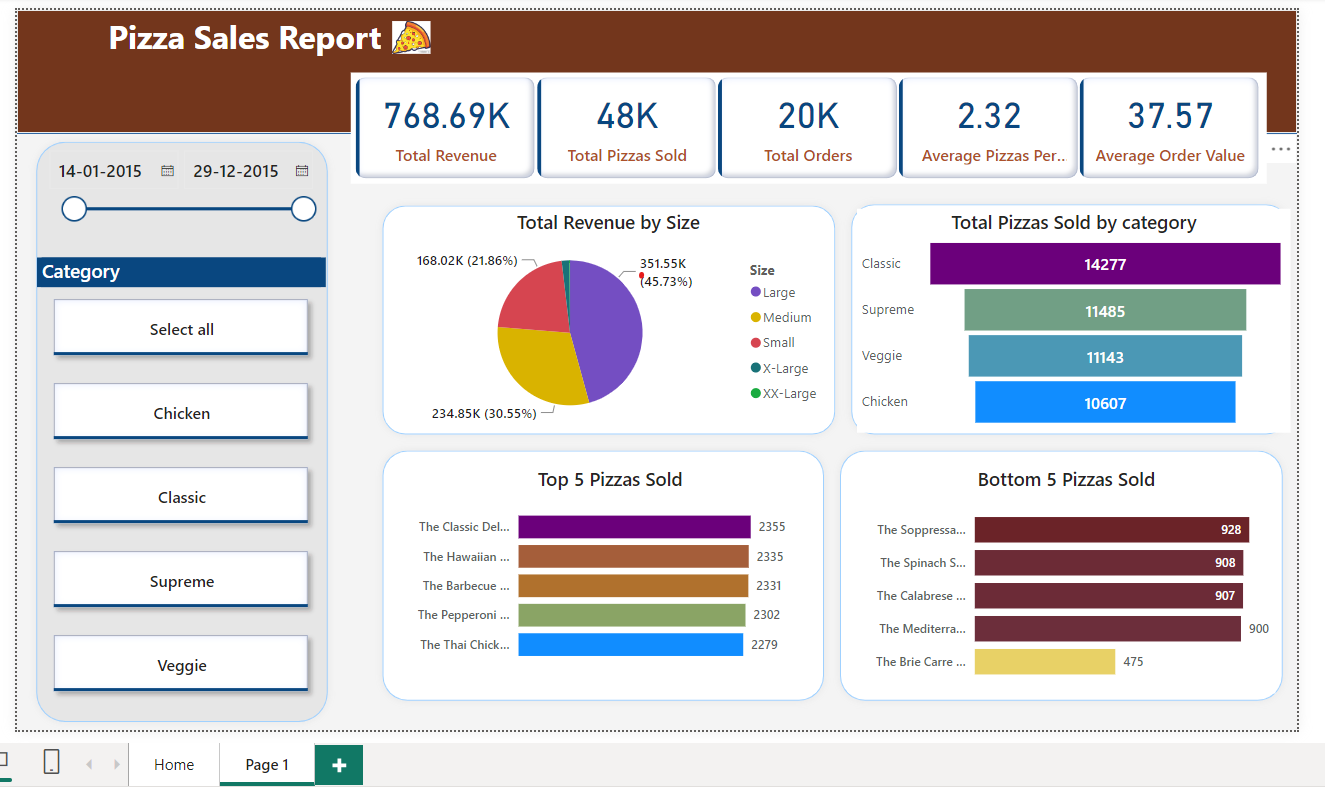

The page's visual inventory and layout, read from the dashboard file:
{"tool":"powerbi","page":{"name":"Page 1","canvas":[1280,720],"ordinal":1},"visuals":[{"type":"shape","box":[0,0,1280,123.8],"z":0},{"type":"cardVisual","fields":{"Data":["Merged Pizza Data.Total Revenue","Merged Pizza Data.Total Pizzas Sold","Merged Pizza Data.Total Orders","Merged Pizza Data.Average Pizzas Per Order","Merged Pizza Data.Average Order Value"]},"box":[333.8,62.5,916.2,111.2],"z":1000},{"type":"textbox","box":[86.2,0,308.8,53.8],"z":2000},{"type":"image","box":[368.8,6.2,51.2,42.5],"z":3000},{"type":"shape","box":[357.5,187.5,468.8,245],"z":4000},{"type":"shape","box":[357.5,432.5,457.5,266.2],"z":5000},{"type":"shape","box":[826.2,186.2,453.8,246.2],"z":6000},{"type":"shape","box":[815,432.5,458.8,266.2],"z":7000},{"type":"shape","box":[11.2,123.8,307.5,596.2],"z":8000},{"type":"pieChart","fields":{"Y":["Merged Pizza Data.Total Revenue"],"Category":["Merged Pizza Data.size"]},"box":[368.8,198.8,445,223.8],"z":9000},{"type":"advancedSlicerVisual","title":"Category","fields":{"Values":["Merged Pizza Data.category"]},"box":[20,247.5,288.8,451.2],"z":10000},{"type":"slicer","fields":{"Values":["Merged Pizza Data.date"]},"box":[20,130,288.8,170],"z":11000},{"type":"funnel","fields":{"Y":["Merged Pizza Data.Total Pizzas Sold"],"Category":["Merged Pizza Data.category"]},"box":[840,198.8,433.8,223.8],"z":12000},{"type":"barChart","title":"Top 5  Pizzas Sold ","fields":{"Category":["Merged Pizza Data.name"],"Y":["Merged Pizza Data.Total Pizzas Sold"]},"box":[383.8,456.2,418.8,207.5],"z":13000},{"type":"barChart","title":"Bottom 5  Pizzas Sold ","fields":{"Category":["Merged Pizza Data.name"],"Y":["Merged Pizza Data.Total Pizzas Sold"]},"box":[840,456.2,418.8,227.5],"z":13001}]}

Visuals, with their boxes on the page's 1280x720 design canvas (x1, y1, x2, y2). These are canvas units, not pixel positions in the 1325x787 screenshot, which may show the page scaled, cropped or inside an application window:
shape: {"left": 0, "top": 0, "right": 1280, "bottom": 124}
cardVisual - Merged Pizza Data.Total Revenue x Merged Pizza Data.Total Pizzas Sold: {"left": 334, "top": 62, "right": 1250, "bottom": 174}
textbox: {"left": 86, "top": 0, "right": 395, "bottom": 54}
image: {"left": 369, "top": 6, "right": 420, "bottom": 49}
shape: {"left": 358, "top": 188, "right": 826, "bottom": 432}
shape: {"left": 358, "top": 432, "right": 815, "bottom": 699}
shape: {"left": 826, "top": 186, "right": 1280, "bottom": 432}
shape: {"left": 815, "top": 432, "right": 1274, "bottom": 699}
shape: {"left": 11, "top": 124, "right": 319, "bottom": 720}
pieChart - Merged Pizza Data.Total Revenue x Merged Pizza Data.size: {"left": 369, "top": 199, "right": 814, "bottom": 423}
"Category" advancedSlicerVisual: {"left": 20, "top": 248, "right": 309, "bottom": 699}
slicer - Merged Pizza Data.date: {"left": 20, "top": 130, "right": 309, "bottom": 300}
funnel - Merged Pizza Data.Total Pizzas Sold x Merged Pizza Data.category: {"left": 840, "top": 199, "right": 1274, "bottom": 423}
"Top 5  Pizzas Sold " barChart: {"left": 384, "top": 456, "right": 803, "bottom": 664}
"Bottom 5  Pizzas Sold " barChart: {"left": 840, "top": 456, "right": 1259, "bottom": 684}
